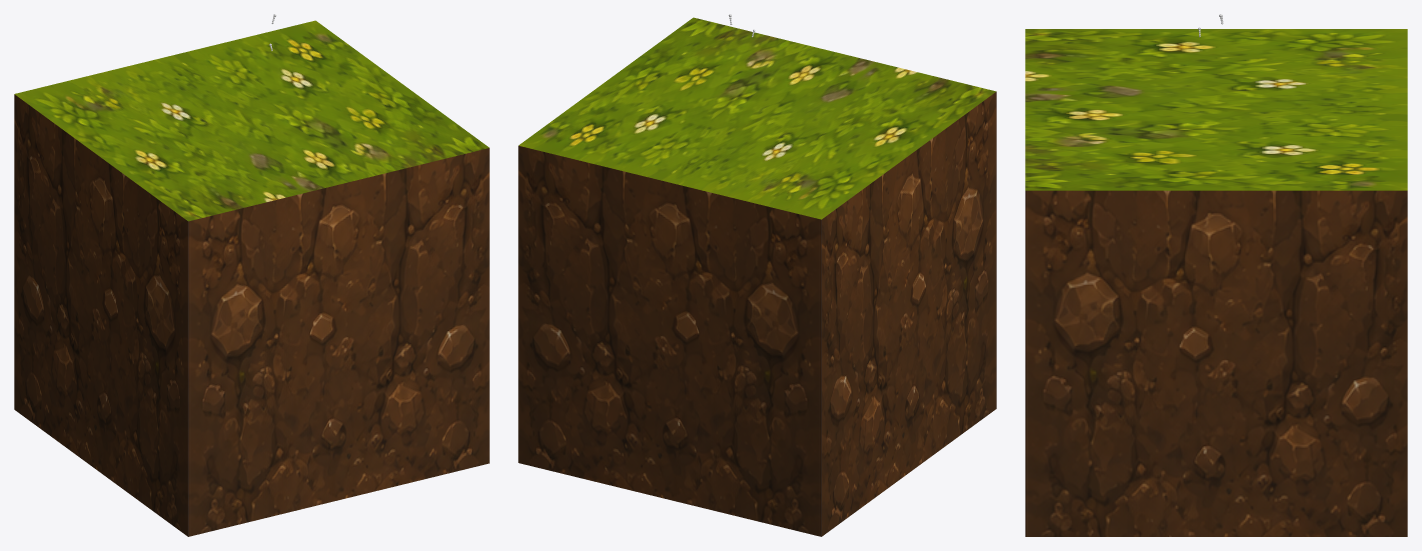
Rendered from 1cubeFBX.fbx.
3 renders of one model, left to right at view 1: azimuth 30°, elevation 25°; view 2: azimuth 150°, elevation 25°; view 3: azimuth 270°, elevation 25°, orthographic. The views are drawn at different scales.
Visible parts, largest first — view 1: Cube; view 2: Cube; view 3: Cube.
Part boxes in pixels (bbox=[...]): Cube: bbox=[14, 14, 489, 536]; Cube: bbox=[518, 14, 996, 536]; Cube: bbox=[1025, 14, 1407, 536].
Size of the model in its own units: 100 by 131 by 100.
Materials: 3 (2 with a texture image).
